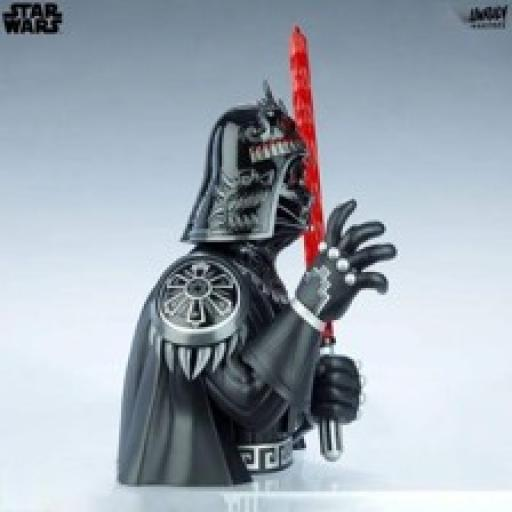human: (111, 95, 396, 485)
sith saber: (287, 22, 356, 454)
